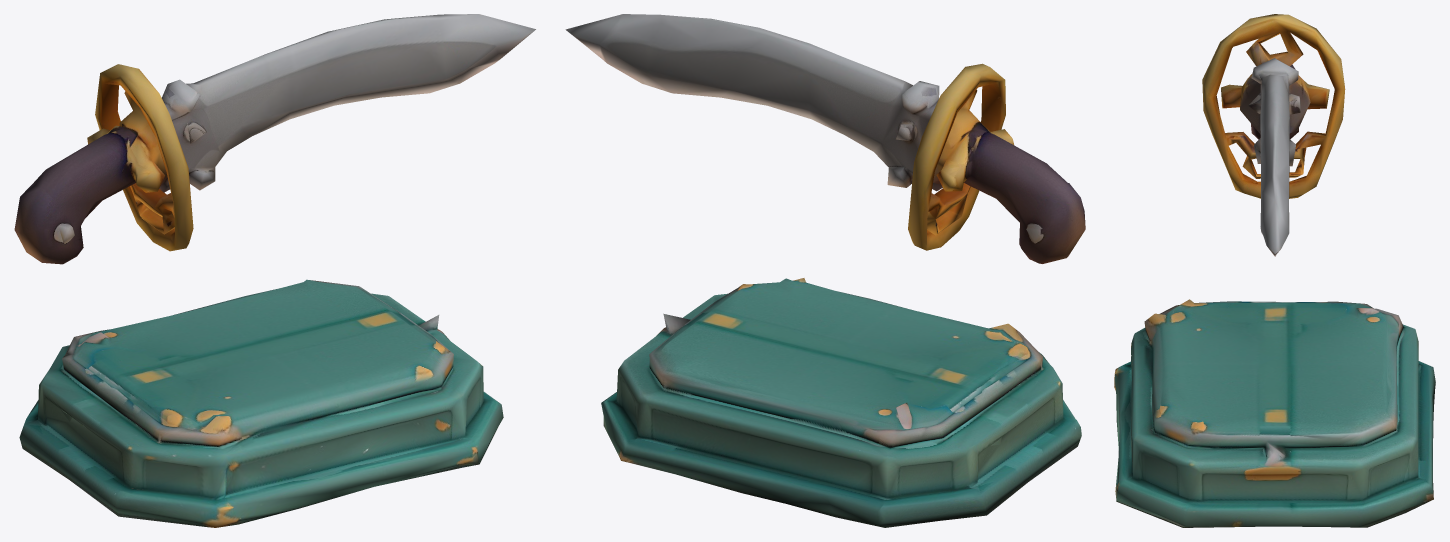
Rendered from weapon_captains_sword_tertiary_1500_raw.glb.
The picture shows the model from 3 angles, left to right: view 1: azimuth 30°, elevation 25°; view 2: azimuth 150°, elevation 25°; view 3: azimuth 270°, elevation 25°; orthographic projection. The views are drawn at different scales.
Parts seen in each view (by area): view 1: tripo_node_9f576de1-8ae3-455c-b7b1-42ed00910798; view 2: tripo_node_9f576de1-8ae3-455c-b7b1-42ed00910798; view 3: tripo_node_9f576de1-8ae3-455c-b7b1-42ed00910798.
Part boxes in pixels (x1=…): tripo_node_9f576de1-8ae3-455c-b7b1-42ed00910798: x1=14, y1=14, x2=535, y2=527; tripo_node_9f576de1-8ae3-455c-b7b1-42ed00910798: x1=565, y1=14, x2=1085, y2=527; tripo_node_9f576de1-8ae3-455c-b7b1-42ed00910798: x1=1114, y1=14, x2=1435, y2=527.
Bounding box in the file's own units: 0.9889 × 0.7253 × 0.5738.
1 material, 1 textured.
